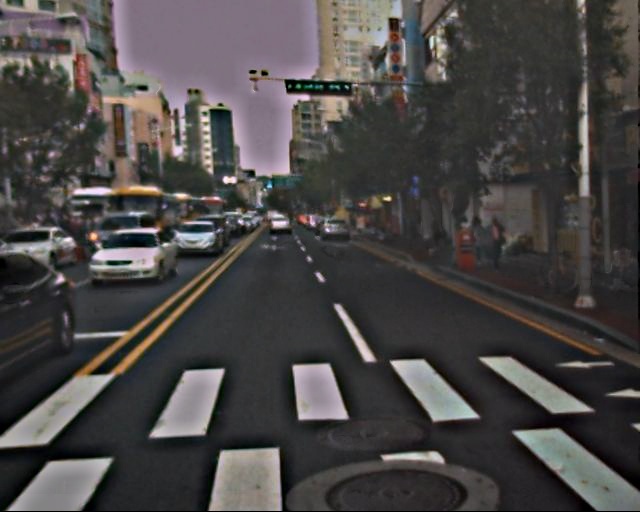person: (601, 243, 638, 293), (469, 217, 493, 275), (483, 218, 507, 276), (427, 210, 445, 253), (413, 212, 428, 248)
